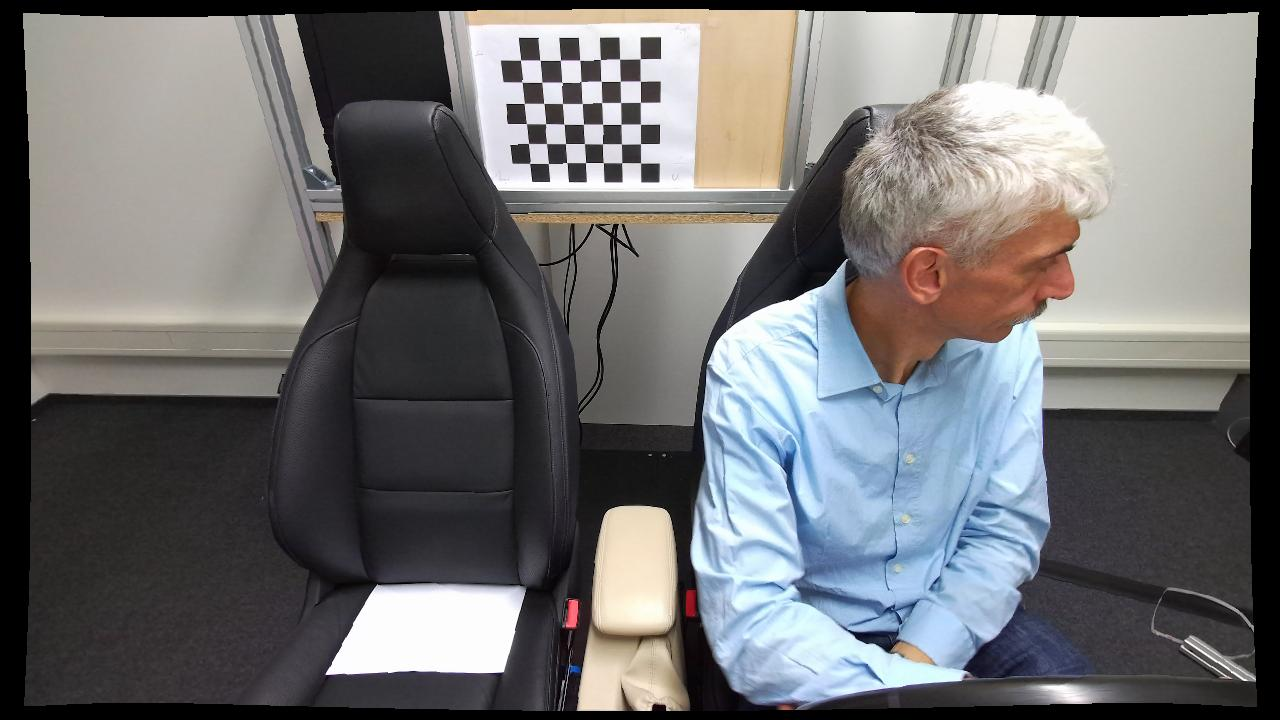Distracted: (691, 77, 1119, 714)
